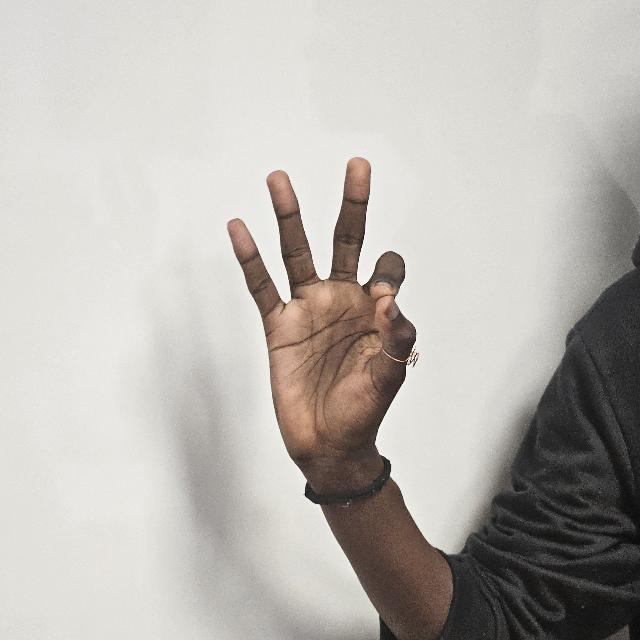Bolinha: (224, 152, 421, 496)
